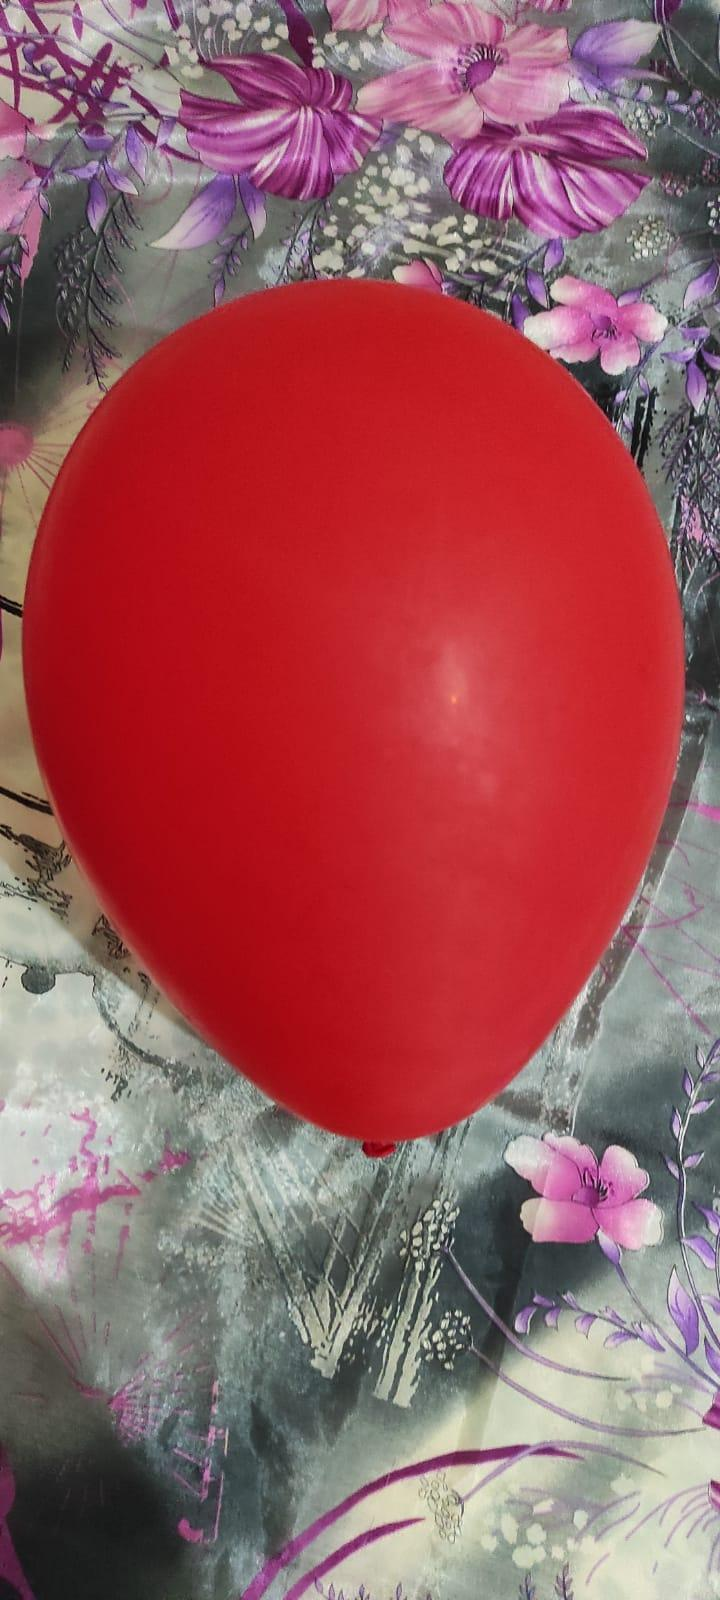red: (24, 270, 702, 1171)
